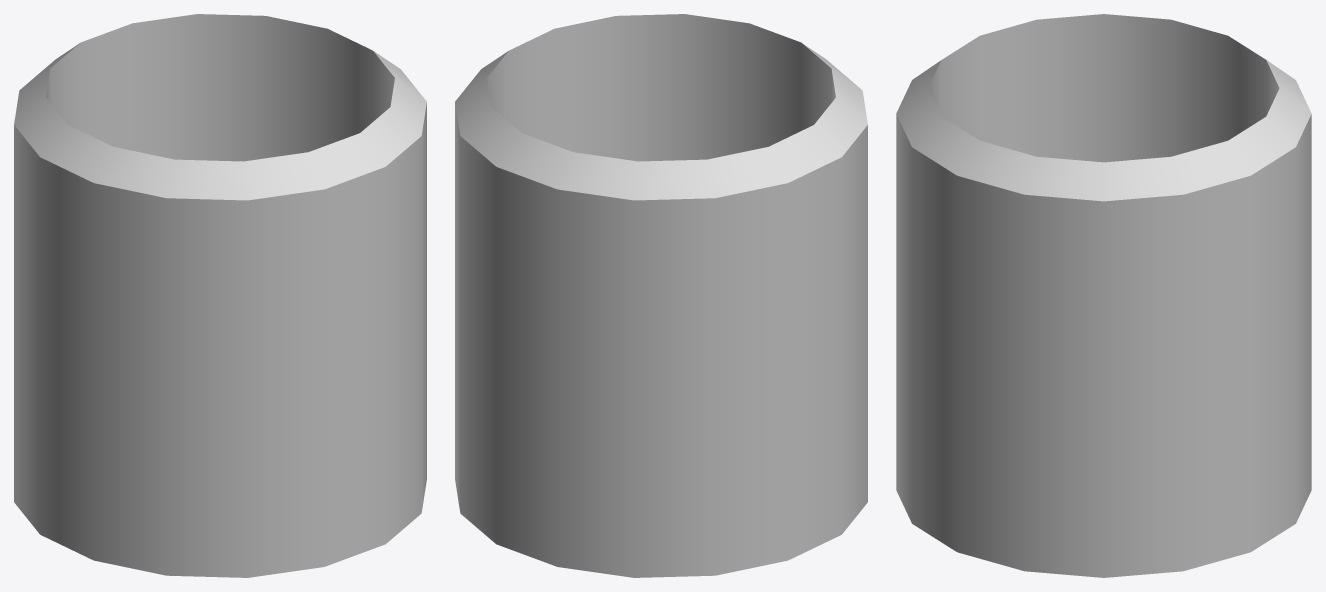
The model's file is VialTest.fbx.
3 views of the same model, side by side, from view 1: azimuth 30°, elevation 25°; view 2: azimuth 150°, elevation 25°; view 3: azimuth 270°, elevation 25° (orthographic).
Visible parts, largest first — view 1: UseGlassShader; view 2: UseGlassShader; view 3: UseGlassShader.
Boxes of the visible parts, x1,y1,x2,y2 form: UseGlassShader: [14, 14, 426, 577]; UseGlassShader: [455, 14, 867, 577]; UseGlassShader: [896, 14, 1311, 577].
Bounding box in the file's own units: 2 × 2.17 × 2.
